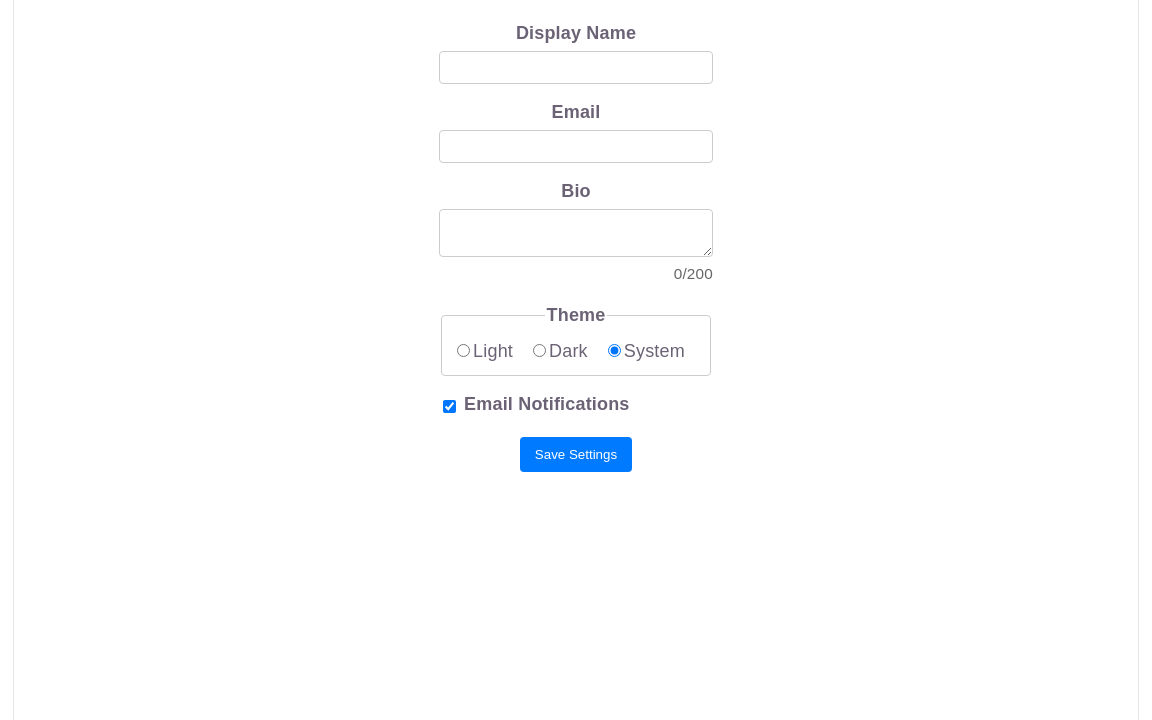
Test case: SettingsForm › shows error when Display Name is empty
Click the button "Save Settings" at (576, 454), box top-left (520, 437), bottom-right (632, 472)
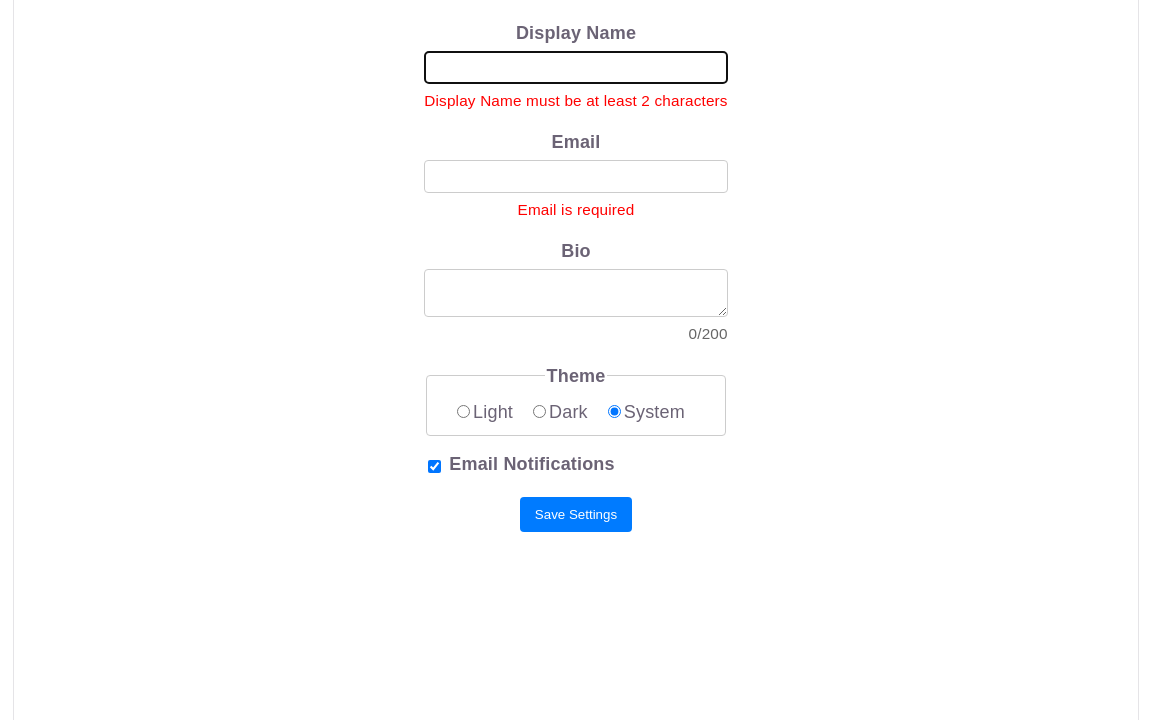
expect the text "Display Name must be at least 2 characters" is shown: met, box top-left (424, 88), bottom-right (728, 114)
